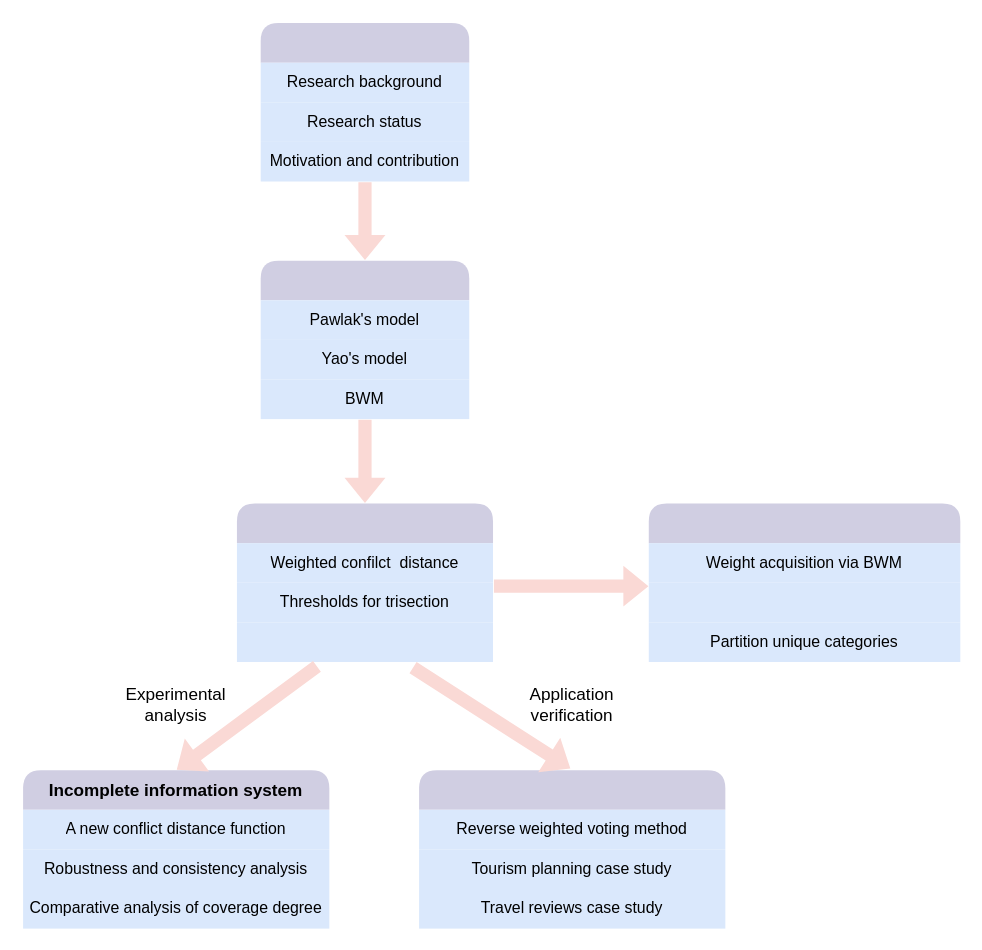
This 982x950 diagram has some shape labels left out. The box of each missing label's shape, as (x1, y1, x2, y2) in pixels:
Agent partitioning and coalition generation: (648, 582, 960, 622)
Algorithm: (648, 503, 960, 661)
Dispersed information system: (418, 770, 725, 928)
Introduction: (260, 22, 469, 181)
Model construction: (236, 503, 492, 661)
Model solving steps and analysis: (236, 622, 492, 661)
Theoretical basis: (260, 260, 469, 418)
